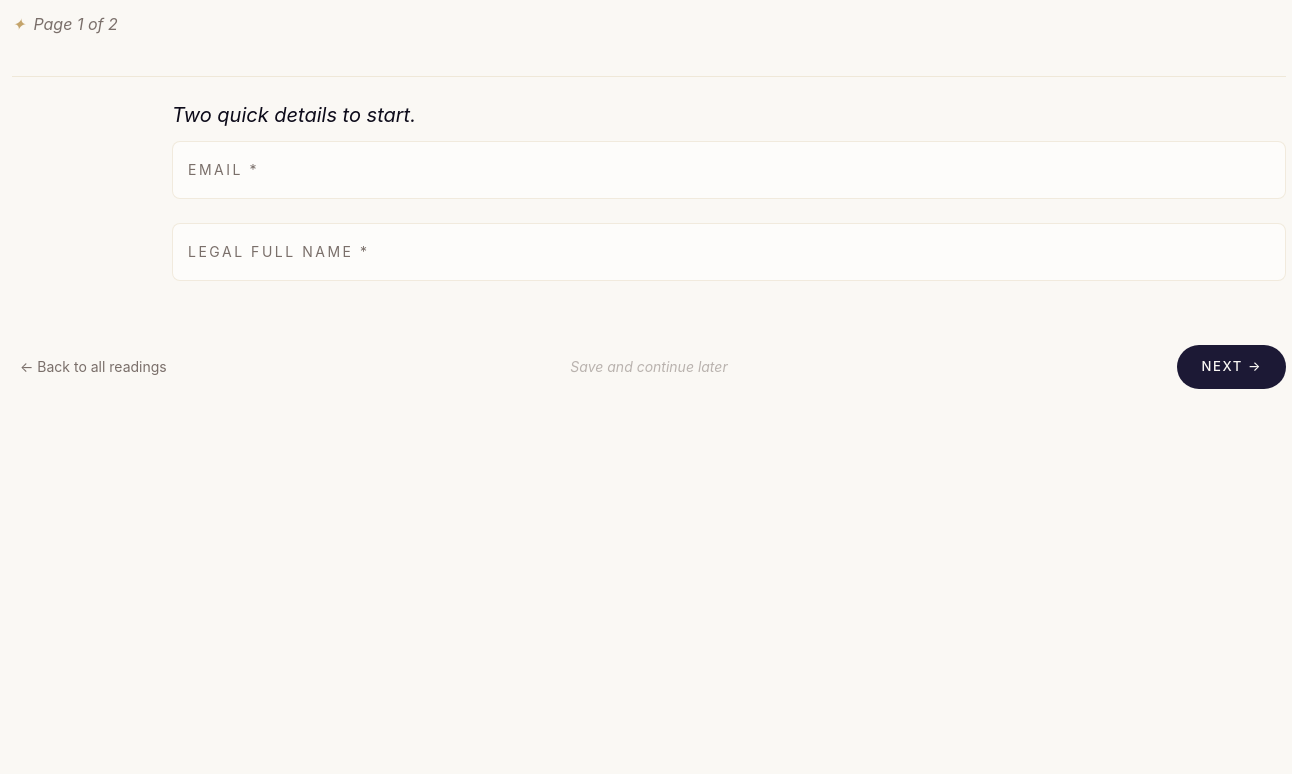
Scenario: IntakeForm — page 1 validation (production seed shape) › advances to page 2 when Next is clicked with valid page-1 input
Step 1. Type "ada@example.com" into the field labelled "Email *" → (729, 170), box x1=172 y1=141 x2=1286 y2=199
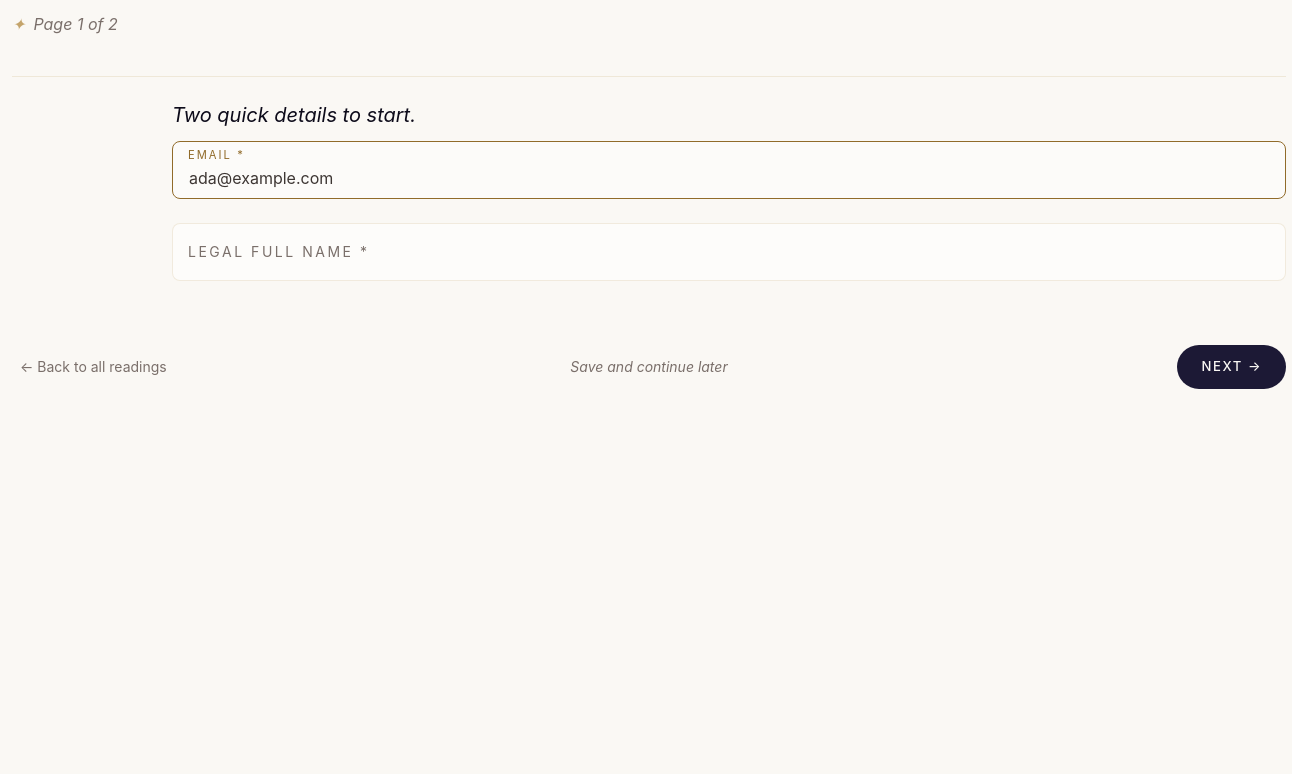
Step 2. Type "Ada Lovelace" into the field labelled "Legal full name *" → (729, 252), box x1=172 y1=223 x2=1286 y2=281
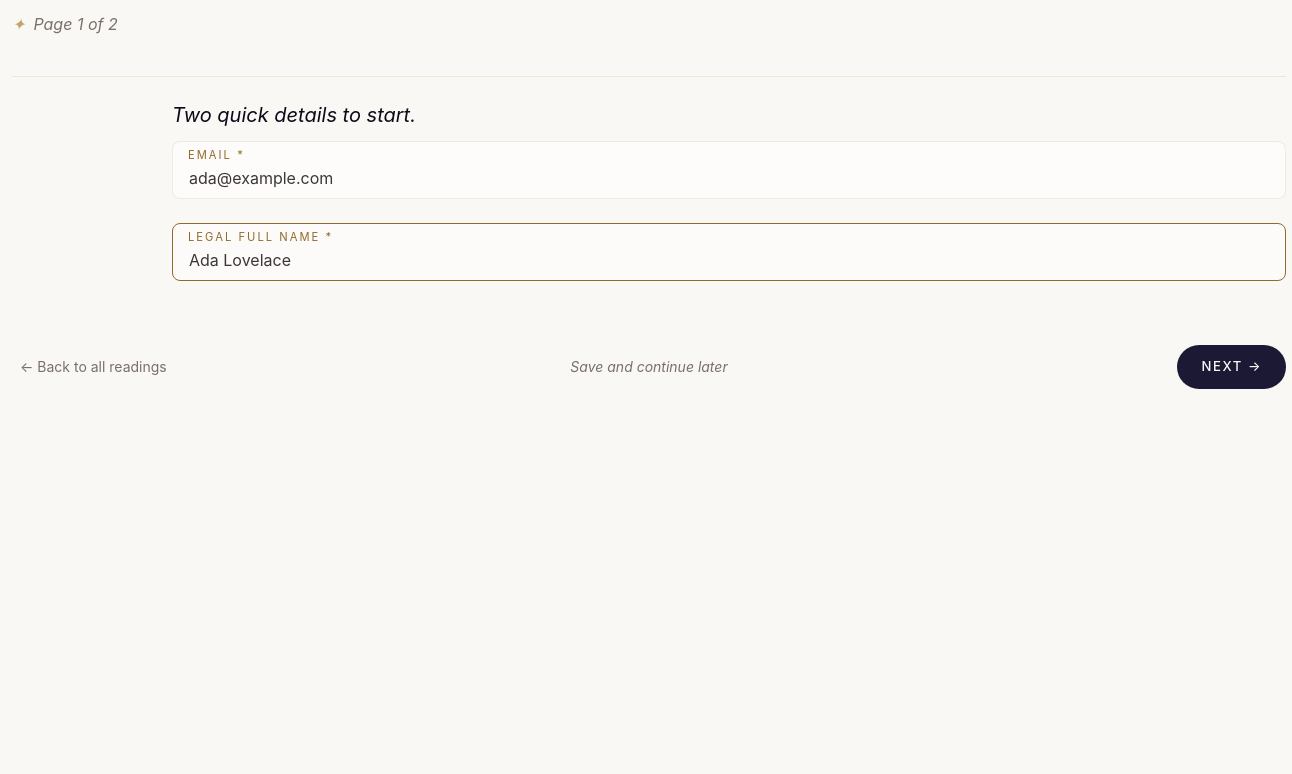
Step 3. Click the button "Next →" → (1232, 367), box x1=1178 y1=345 x2=1286 y2=389
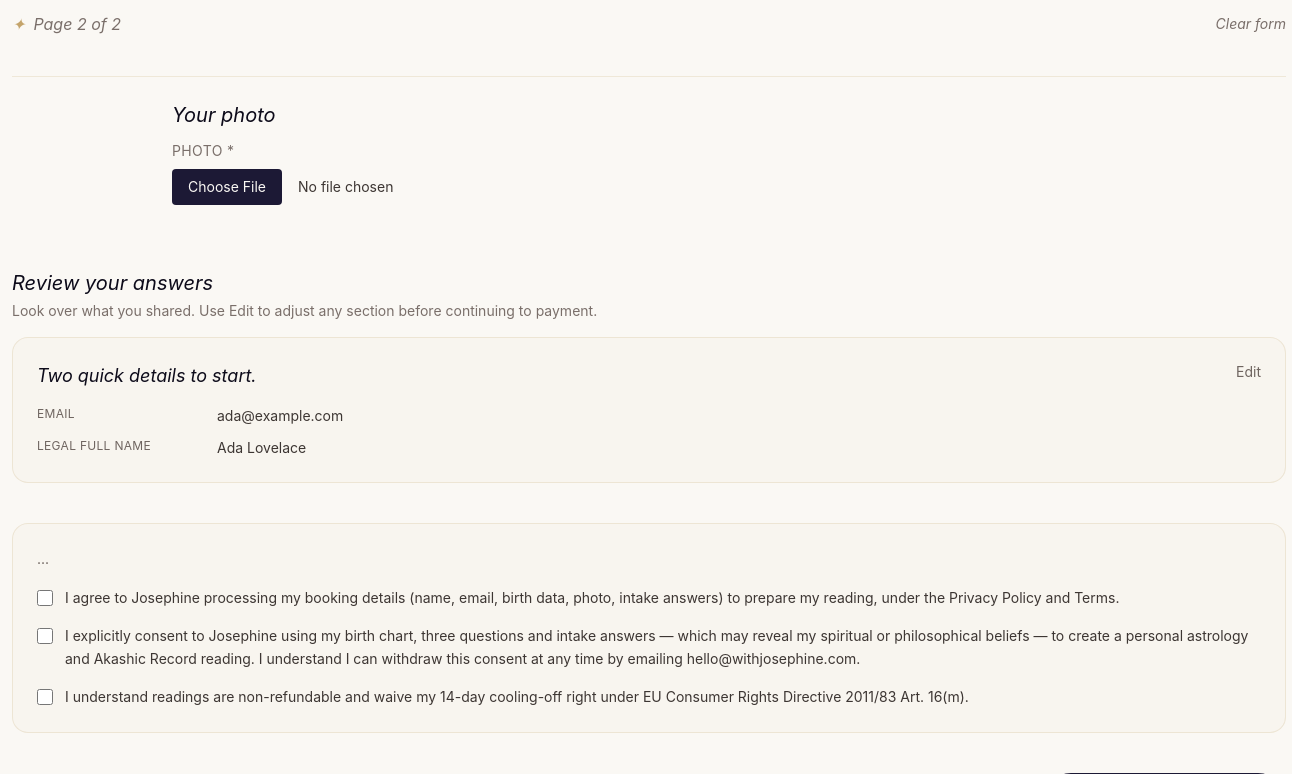
expect the heading "Your photo" is shown: met, box x1=172 y1=103 x2=276 y2=127
